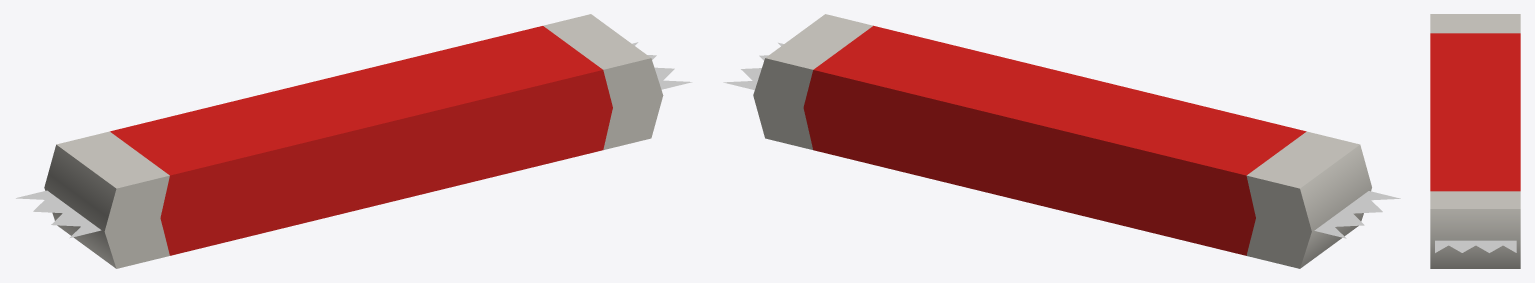
File: SM_Single_Biscuits_Red.fbx
3 views of the same model, side by side, from view 1: azimuth 30°, elevation 25°; view 2: azimuth 150°, elevation 25°; view 3: azimuth 270°, elevation 25° (orthographic). The views are drawn at different scales.
Parts seen in each view (by area): view 1: pPlane6; view 2: pPlane6; view 3: pPlane6.
Part boxes in pixels (left/top/right/bottom): pPlane6: left=16, top=14, right=692, bottom=268; pPlane6: left=723, top=14, right=1400, bottom=268; pPlane6: left=1430, top=14, right=1520, bottom=268.
Size of the model in its own units: 0.5139 by 0.0632 by 0.0859.
